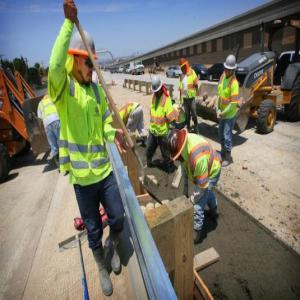red: (168, 129, 190, 163), (180, 56, 190, 74)
white: (69, 30, 98, 85), (224, 53, 238, 79), (151, 75, 164, 98)
